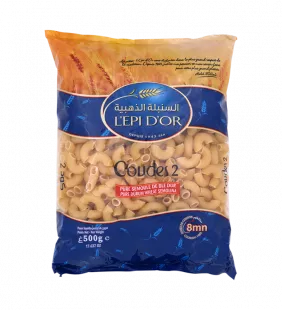L'EPI D'OR: (36, 20, 244, 289)
